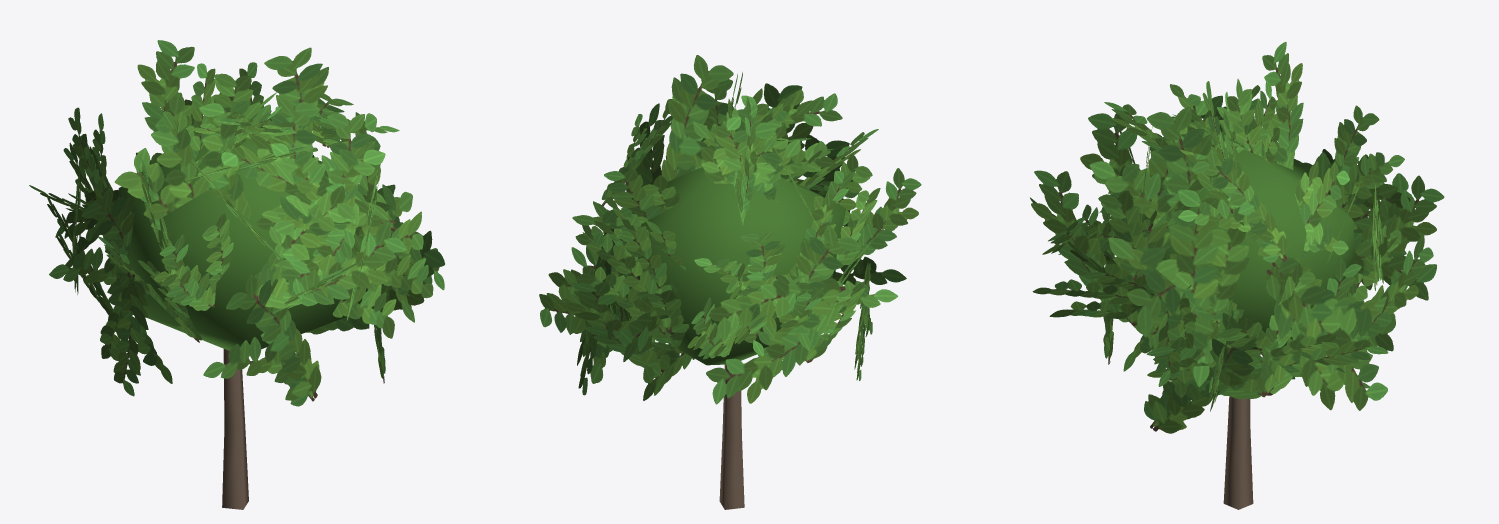
The model's file is GEN_FOLHOSA_2.glb.
3 views of the same model, side by side, from view 1: azimuth 30°, elevation 25°; view 2: azimuth 150°, elevation 25°; view 3: azimuth 270°, elevation 25° (orthographic). The views are drawn at different scales.
Parts seen in each view (by area): view 1: Arv_GEN_FOLHOSA_lod2; view 2: Arv_GEN_FOLHOSA_lod2; view 3: Arv_GEN_FOLHOSA_lod2.
Part boxes in pixels (x1=…): Arv_GEN_FOLHOSA_lod2: x1=29, y1=40, x2=444, y2=509; Arv_GEN_FOLHOSA_lod2: x1=539, y1=55, x2=921, y2=509; Arv_GEN_FOLHOSA_lod2: x1=1030, y1=42, x2=1444, y2=509.
Size of the model in its own units: 11.18 by 12.07 by 11.8.
Materials: 3 (1 with a texture image).
